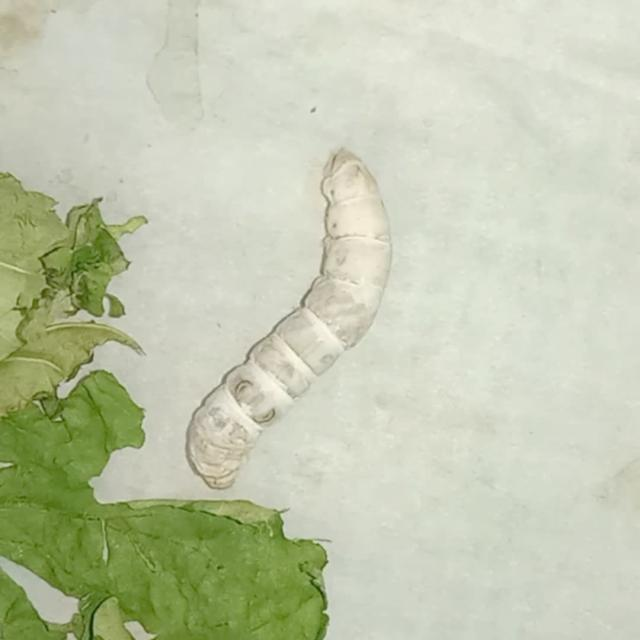Grasserie: (178, 135, 416, 497)
